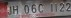character: (65, 1, 71, 12), (23, 4, 29, 14), (37, 3, 43, 13), (12, 5, 18, 14), (31, 3, 36, 13), (59, 2, 64, 12), (7, 5, 11, 15)
